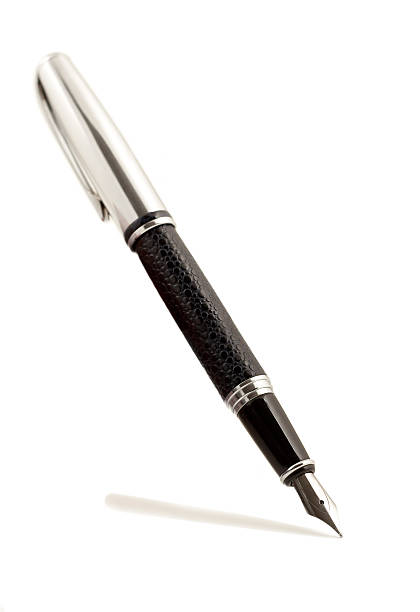pen: (29, 35, 360, 561)
